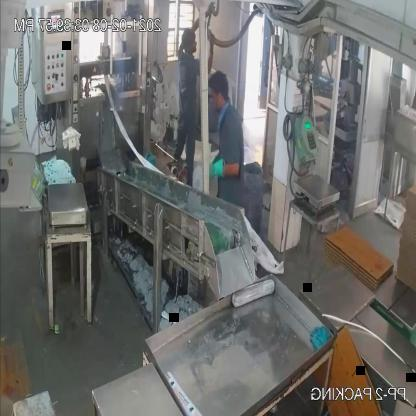glove: (206, 153, 233, 186)
